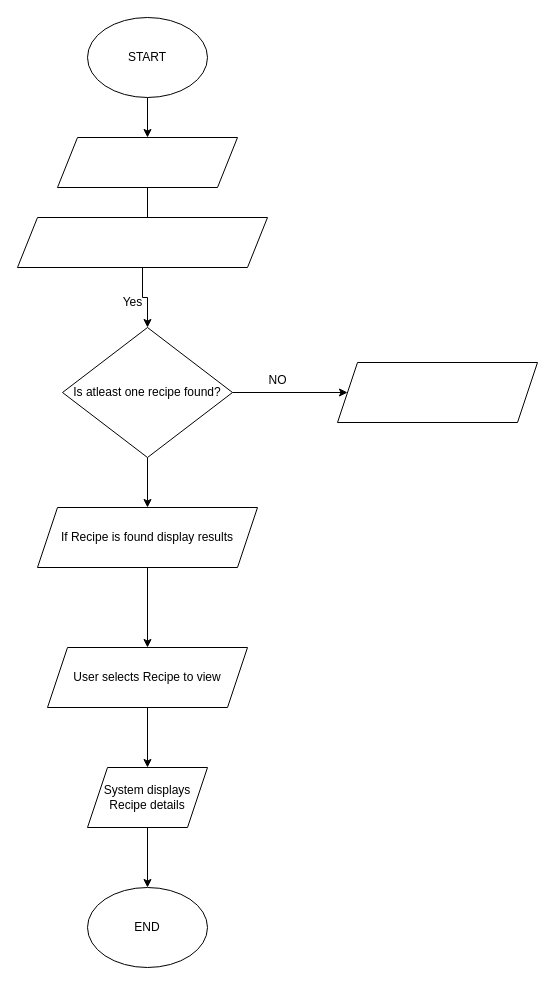
This 555x985 diagram has some shape labels left out. Each missing label, with the centre of its shape:
"If no Recipes found, display message" goes at point (437, 392).
"System retrieves Recipe matching query" goes at point (142, 242).
"User enters search query" goes at point (147, 162).
